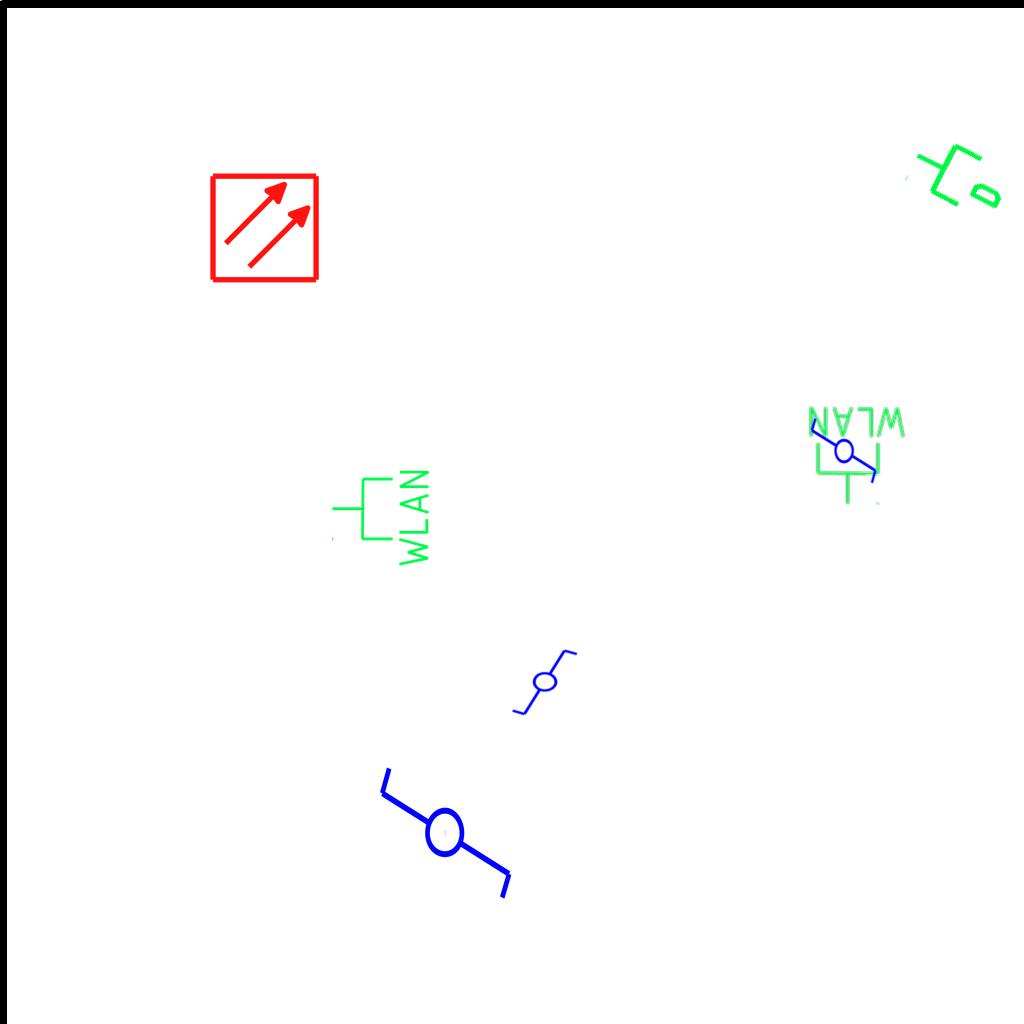Datenanschluss_einfach: (900, 121, 1021, 229)
RMO_Rauchmelder_optischer: (208, 171, 321, 284)
WLAN: (329, 466, 433, 571), (805, 403, 910, 507)
Wechselschalter: (375, 746, 519, 903), (510, 647, 588, 719), (807, 416, 879, 494)
